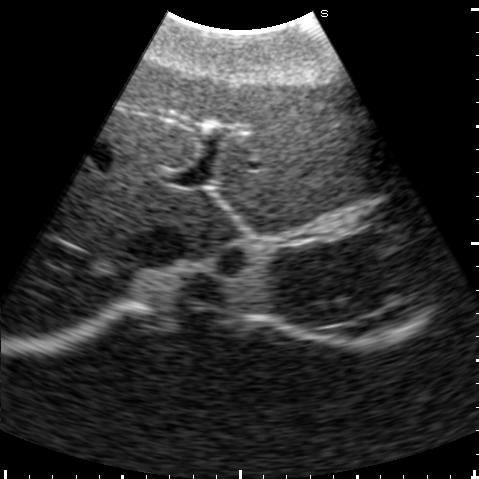IVC: (124, 227, 188, 266)
S1: (178, 194, 242, 262)
S2: (218, 160, 401, 233)
S3: (212, 72, 393, 208)
